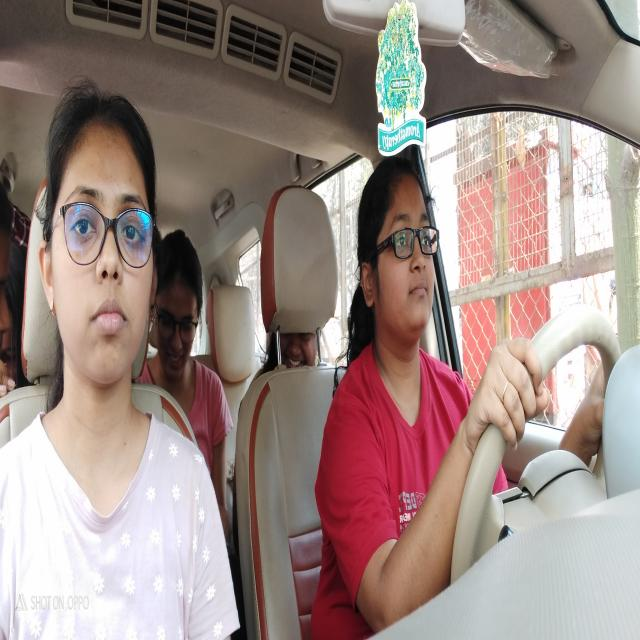person: (36, 80, 162, 406), (354, 150, 444, 347), (158, 218, 208, 392)
